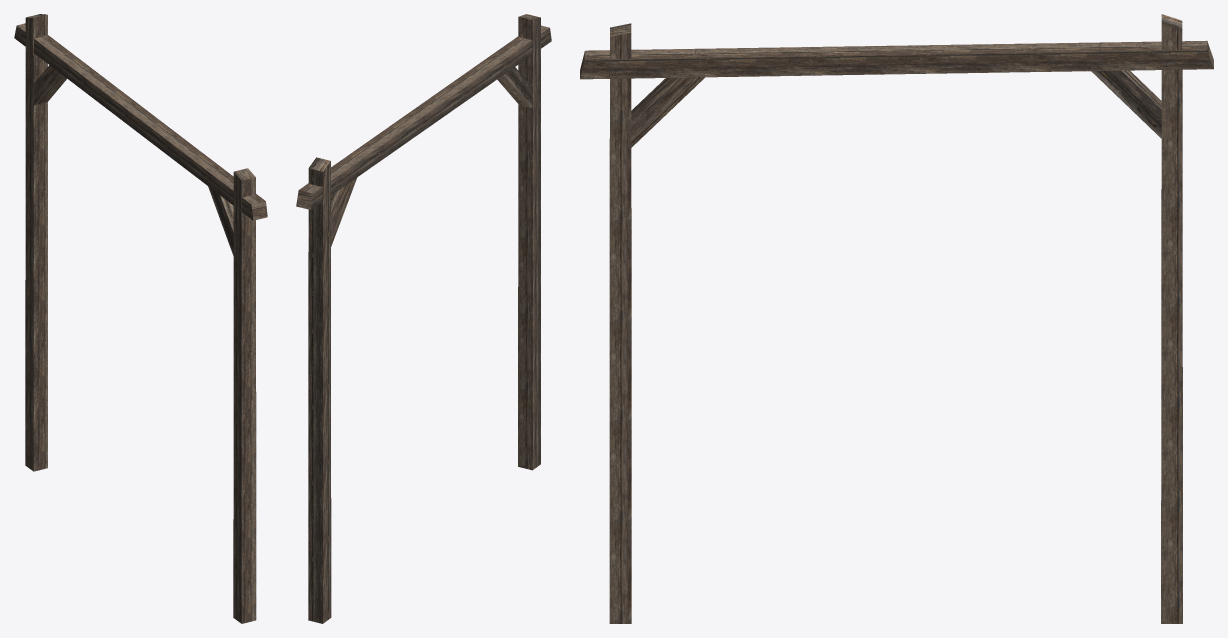
File: gate_wood.glb
3 renders of one model, left to right at view 1: azimuth 30°, elevation 25°; view 2: azimuth 150°, elevation 25°; view 3: azimuth 270°, elevation 25°, orthographic. The views are drawn at different scales.
Visible parts, largest first — view 1: Object_2; view 2: Object_2; view 3: Object_2.
Part boxes in pixels (<box>): Object_2: <box>14,14,267,623</box>; Object_2: <box>296,14,551,623</box>; Object_2: <box>580,14,1213,623</box>.
Bounding box in the file's own units: 0.206 × 6.01 × 5.75.
1 material, 1 textured.
